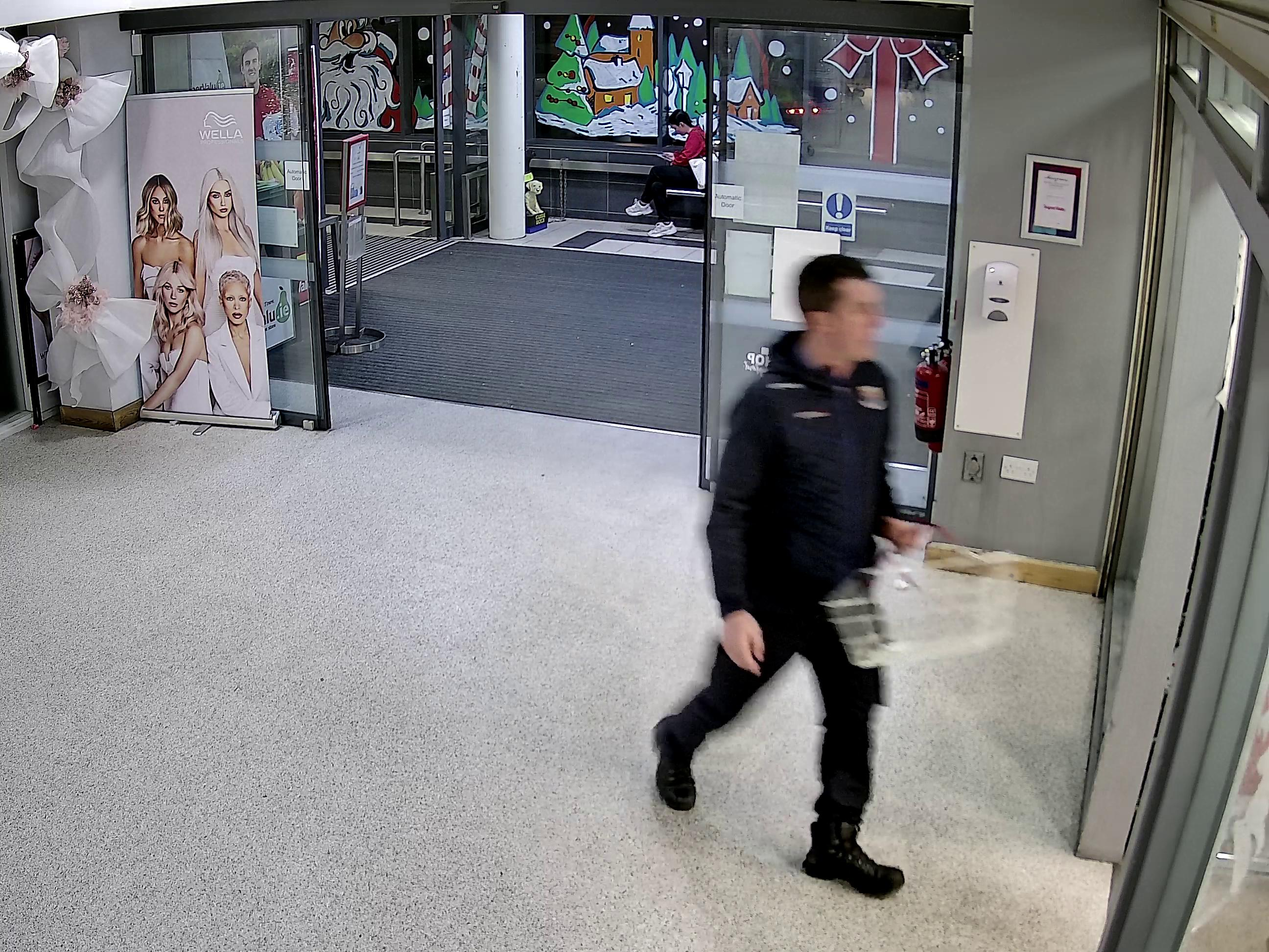empty-basket: (823, 522, 1017, 671)
person: (650, 254, 905, 901)
person-with-empty-basket-trolly: (651, 254, 1017, 895)
